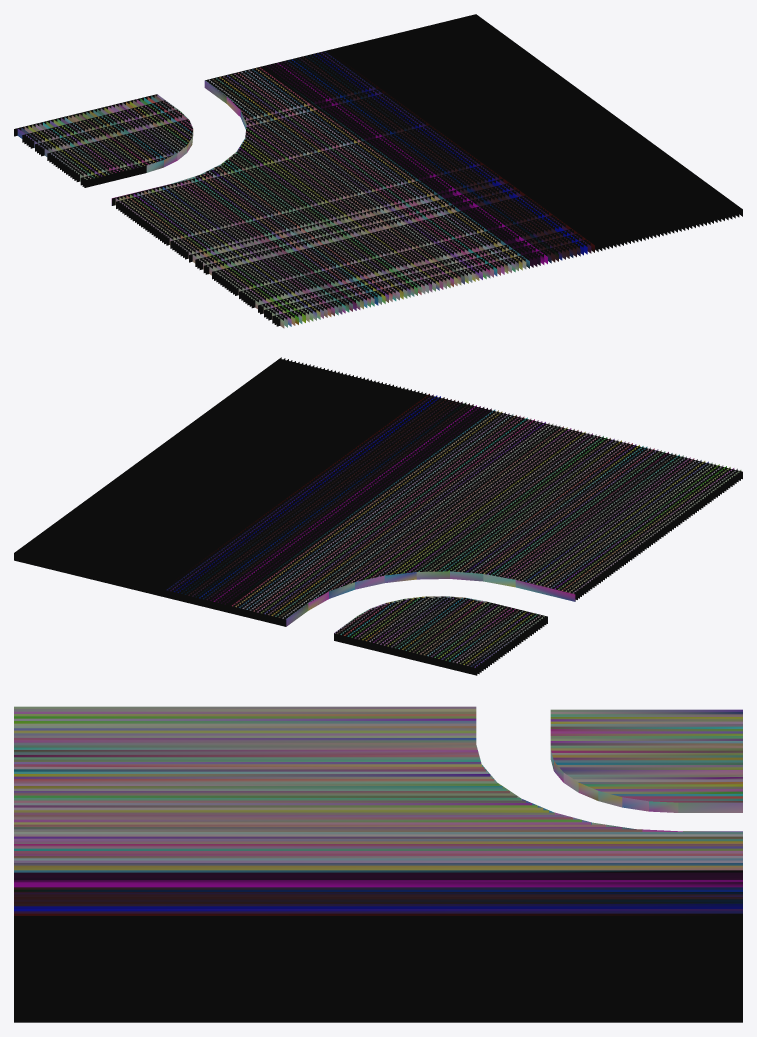
File: Grass_26.gltf
3 views of the same model, one above another, from view 1: azimuth 30°, elevation 25°; view 2: azimuth 150°, elevation 25°; view 3: azimuth 270°, elevation 25° (orthographic). The views are drawn at different scales.
Visible parts, largest first — view 1: Grass_26; view 2: Grass_26; view 3: Grass_26.
Boxes of the visible parts, x1,y1,x2,y2 form: Grass_26: [14, 14, 742, 328]; Grass_26: [14, 357, 742, 675]; Grass_26: [14, 706, 742, 1022].
Size of the model in its own units: 5.12 by 0.1031 by 5.12.
